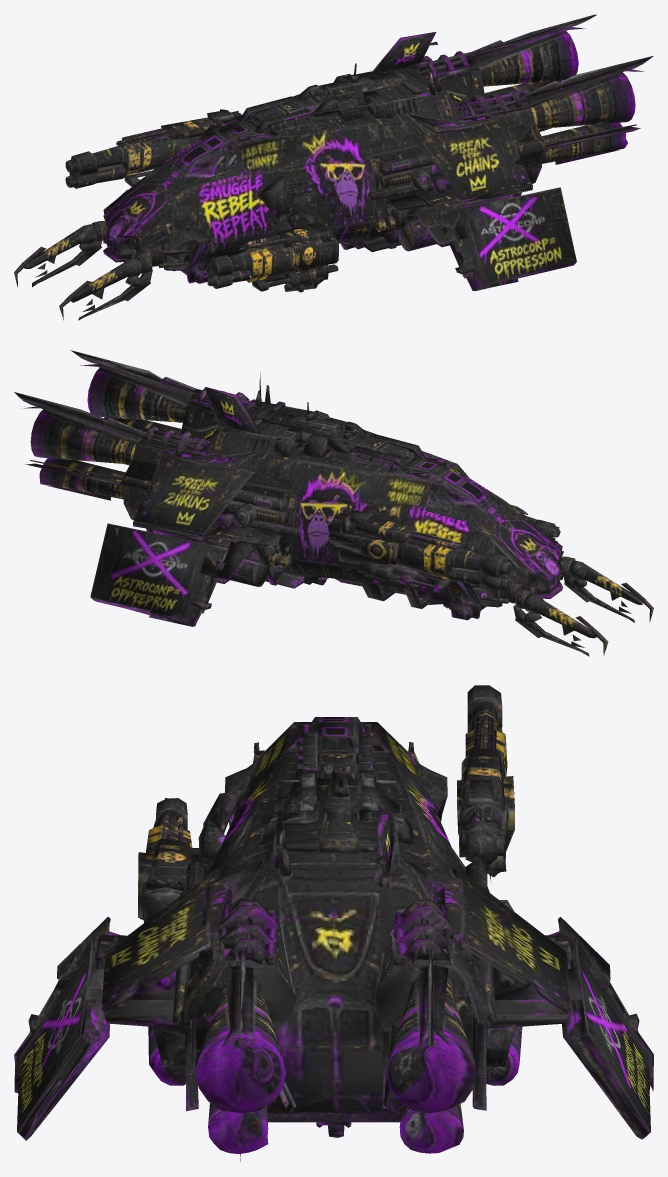
File: ship-rebel-raider.glb
The picture shows the model from 3 angles, top to bottom: view 1: azimuth 30°, elevation 25°; view 2: azimuth 150°, elevation 25°; view 3: azimuth 270°, elevation 25°; orthographic projection. The views are drawn at different scales.
Size of the model in its own units: 0.957 by 0.2837 by 0.5396.
1 material, 1 textured.
